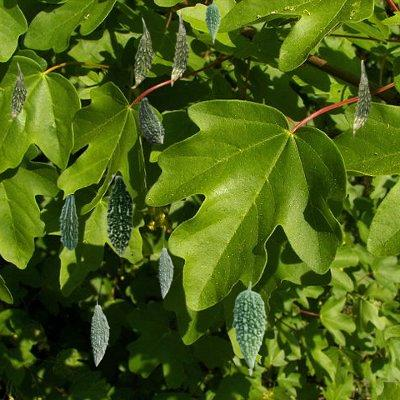ampalaya: (232, 281, 265, 375), (106, 174, 134, 256), (131, 17, 153, 87), (171, 11, 188, 85), (353, 60, 370, 134), (90, 299, 108, 365), (138, 97, 163, 143), (8, 62, 26, 120), (59, 195, 77, 249), (158, 243, 172, 297), (205, 0, 219, 42)
